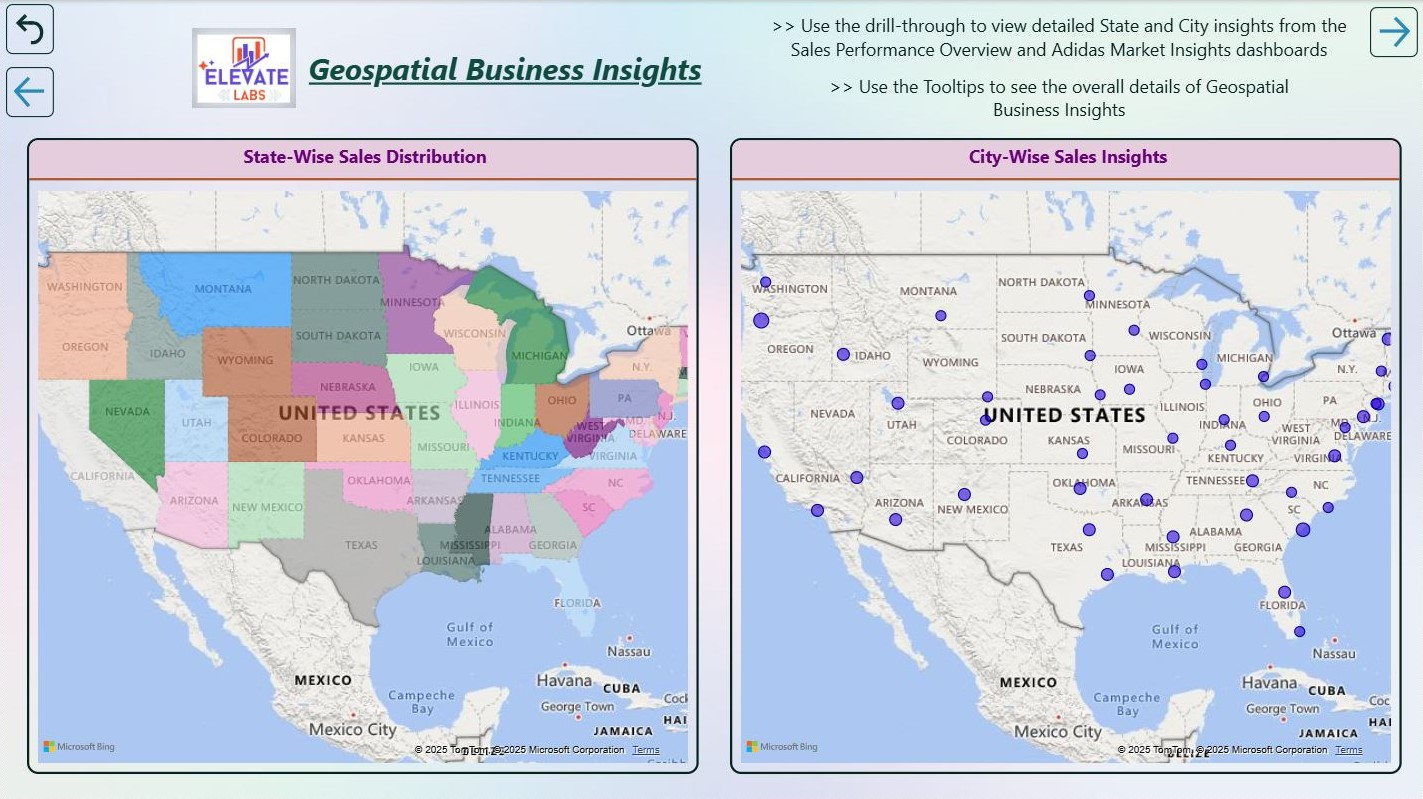

The dashboard page shown, as its layout file describes it:
{"tool":"powerbi","page":{"name":"Geospatial Business Insights","canvas":[1280,720],"ordinal":2},"visuals":[{"type":"filledMap","title":"State-Wise Sales Distribution","fields":{"Category":["Sales_details.State"]},"box":[25,124,603,571],"z":0},{"type":"map","title":"City-Wise Sales Insights","fields":{"Size":["CountNonNull(Sales_details.Units Sold)"],"Category":["Sales_details.City"]},"box":[656,124,603,571],"z":1000},{"type":"image","box":[173,25,93,72],"z":2000},{"type":"actionButton","box":[262,35,384,52],"z":3000},{"type":"actionButton","box":[683,0,537,66],"z":4000},{"type":"actionButton","box":[726,58,451,57],"z":5000},{"type":"actionButton","box":[6,4,43,45],"z":6000},{"type":"actionButton","box":[6,60,43,45],"z":7000},{"type":"actionButton","box":[1231,6,43,45],"z":8000}]}

Visuals, with their boxes in screenshot pixels (x1, y1, x2, y2), scaled from the page's 1280x720 canvas onto the 1423x799 screenshot:
"State-Wise Sales Distribution" filledMap: box=[28, 138, 698, 771]
"City-Wise Sales Insights" map: box=[729, 138, 1400, 771]
image: box=[192, 28, 296, 108]
actionButton: box=[291, 39, 718, 97]
actionButton: box=[759, 0, 1356, 73]
actionButton: box=[807, 64, 1308, 128]
actionButton: box=[7, 4, 54, 54]
actionButton: box=[7, 67, 54, 117]
actionButton: box=[1369, 7, 1416, 57]
